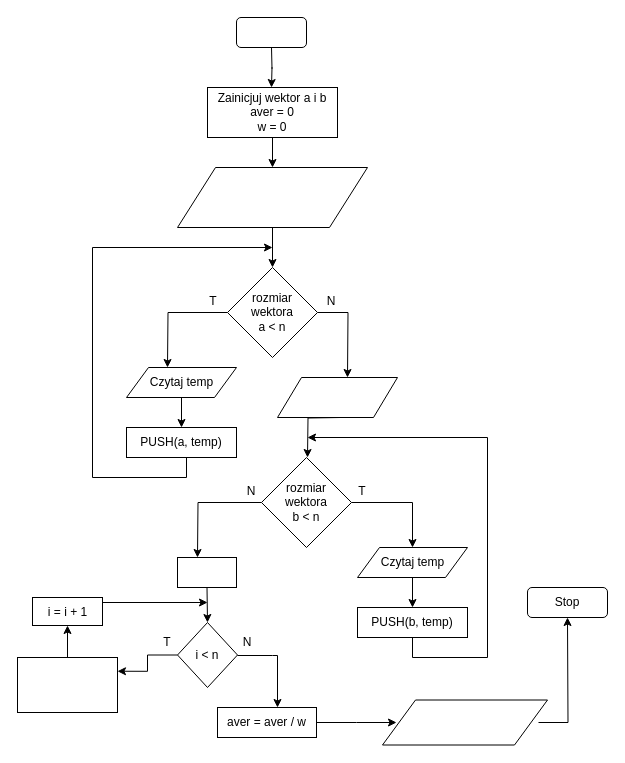
This 625x763 diagram has some shape labels left out. Here are the shapes that lost their labels. From the top down, the centre of each, then its label:
(x=271, y=32): Start
(x=272, y=197): Pisz "Podaj ilość liczb: " Cztaj n Pisz "Wypisz liczby: "
(x=337, y=397): Pisz "Wypisz wagi: "
(x=206, y=572): i = 0
(x=67, y=684): aver = aver + (a[i] * b[i]) w = w + b[i]
(x=465, y=722): Pisz "Średnia ważona liczb wynosi: aver"
